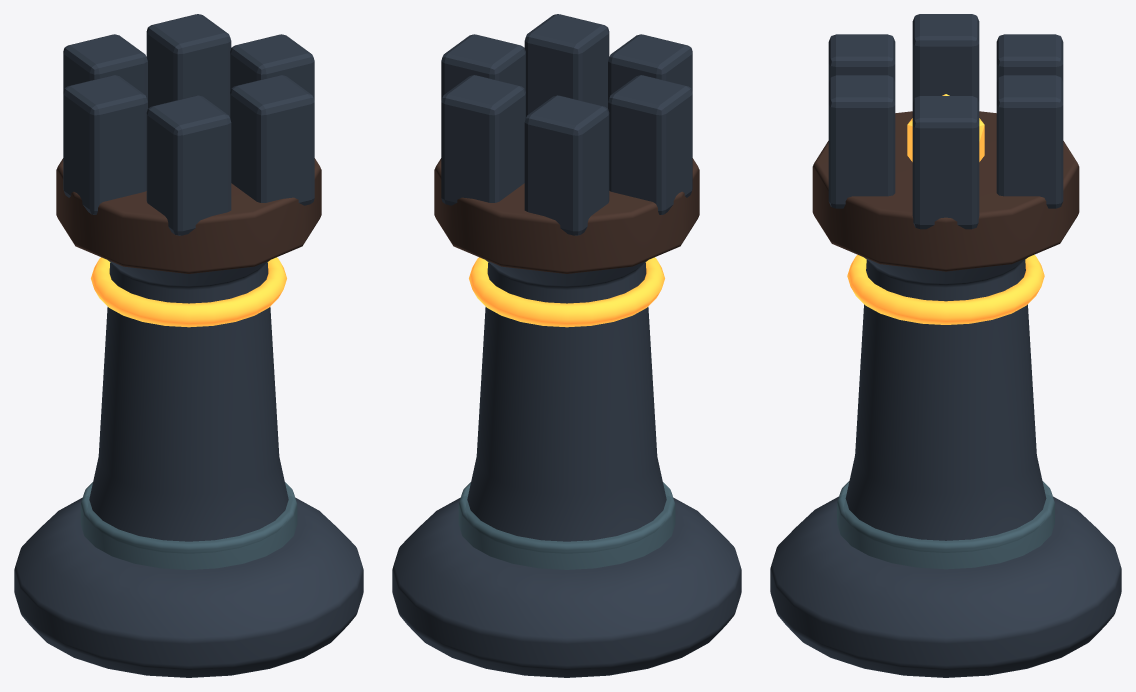
The picture shows the model from 3 angles, left to right: view 1: azimuth 30°, elevation 25°; view 2: azimuth 150°, elevation 25°; view 3: azimuth 270°, elevation 25°; orthographic projection.
Visible parts, largest first — view 1: SciFi_r_b; view 2: SciFi_r_b; view 3: SciFi_r_b.
Boxes of the visible parts, x1,y1,x2,y2 form: SciFi_r_b: (14, 14, 363, 677); SciFi_r_b: (392, 14, 741, 677); SciFi_r_b: (770, 14, 1121, 677).
Bounding box in the file's own units: 0.58 × 0.99 × 0.58.
